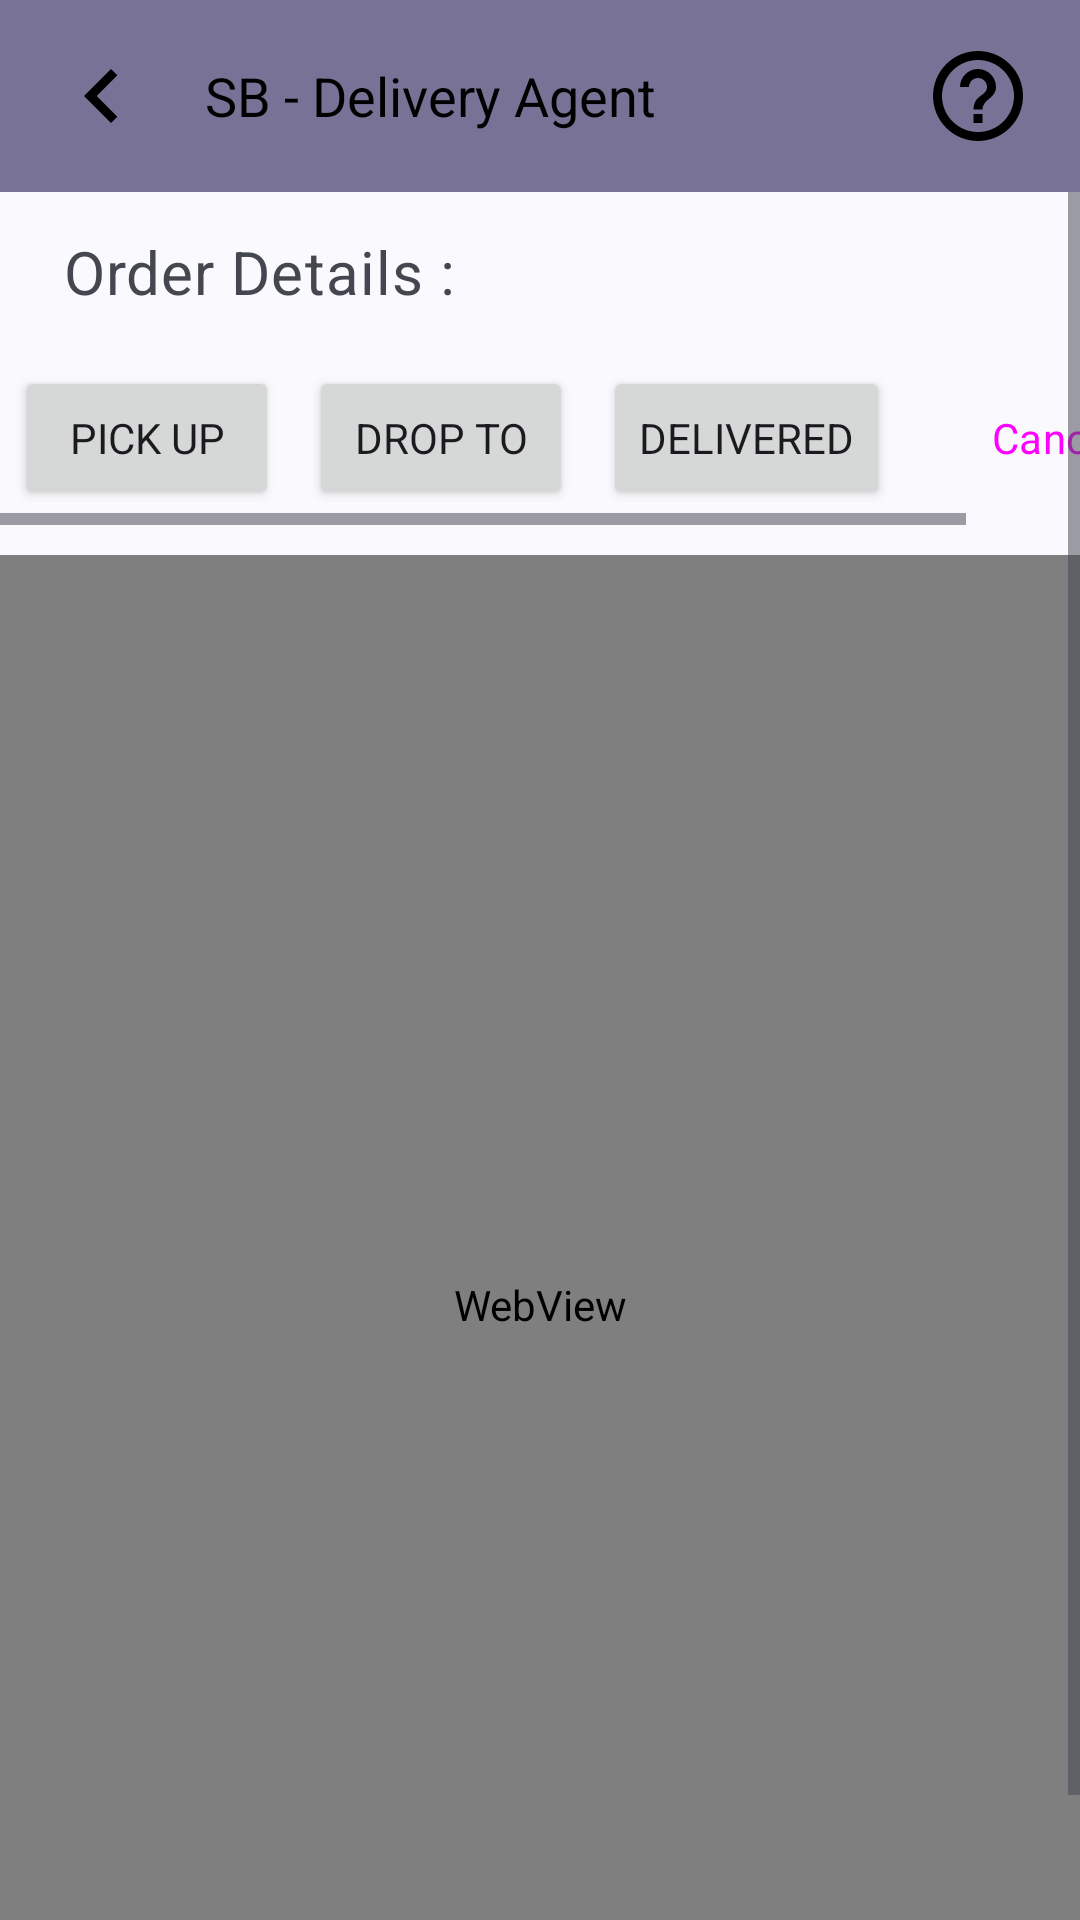

Where to tap for icons on this 1080×1920 app screen, as [x,y]:
chevron left: [100,96]
help: [978,96]
